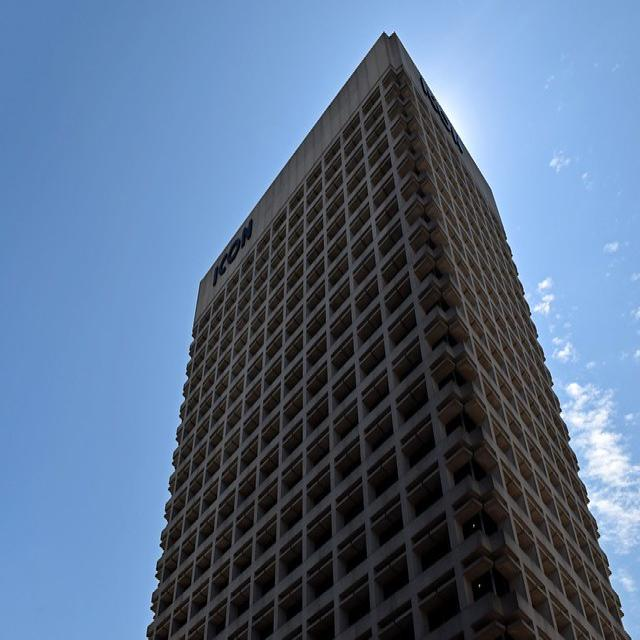building: (140, 27, 630, 640)
